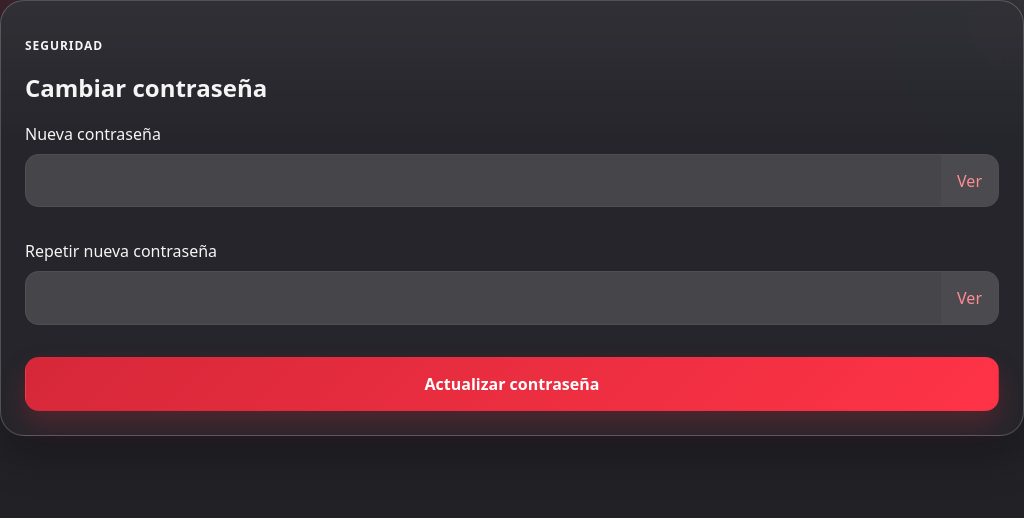
it: PasswordChangeForm › shows a validation error when passwords do not match
The width and height of the screenshot is (1024, 518).
Type "secret123" into the password field labelled "Nueva contraseña" at (484, 181), box x1=26 y1=155 x2=941 y2=206
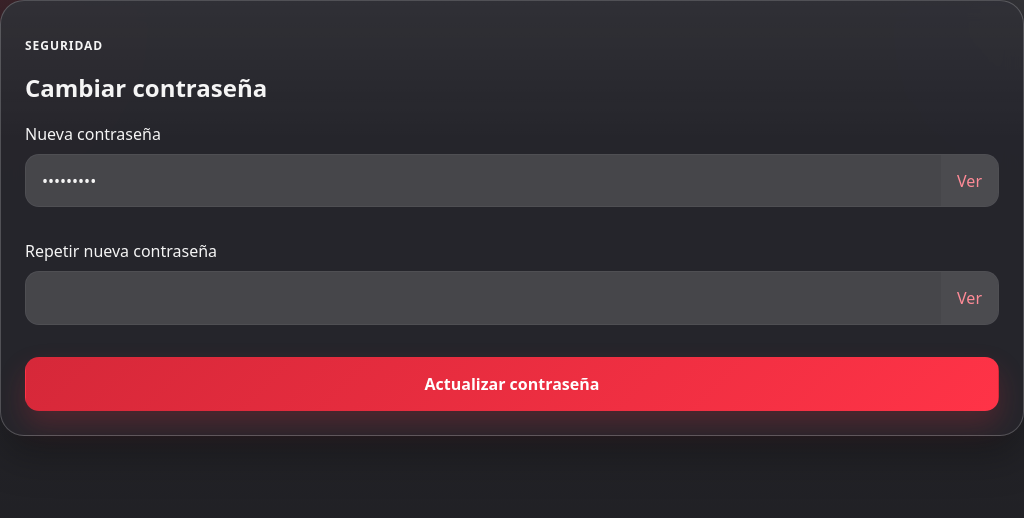
Type "different456" into the password field labelled "Repetir nueva contraseña" at (484, 298), box x1=26 y1=272 x2=941 y2=324
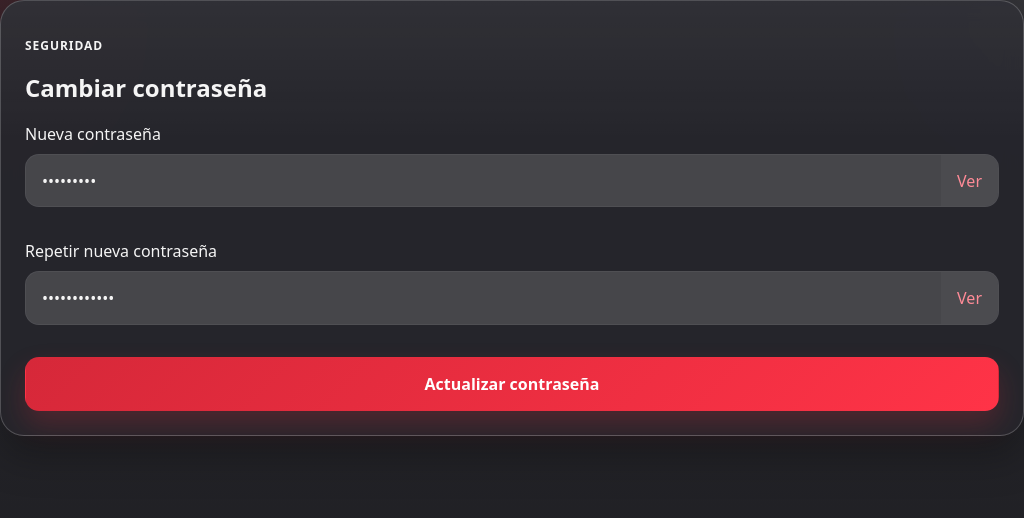
Submit the form
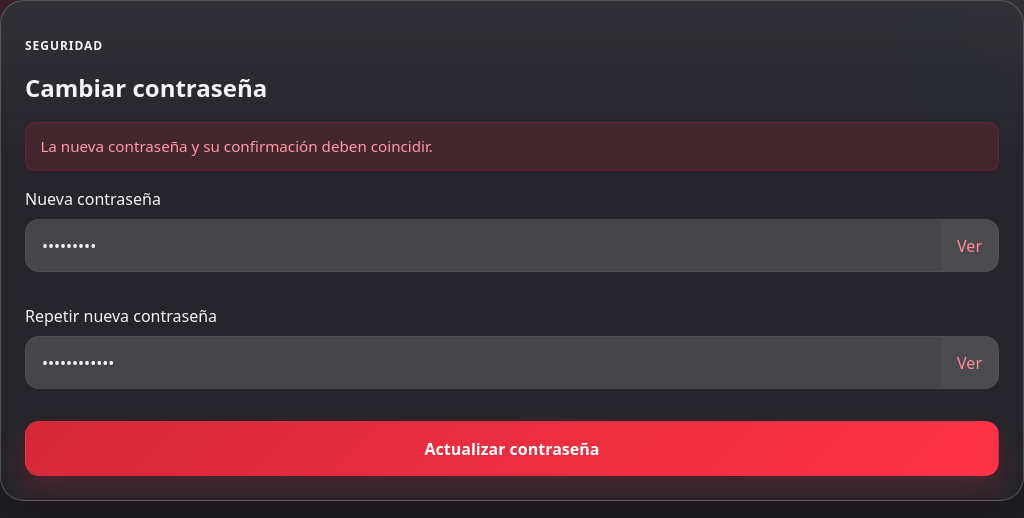
Result: the form shows "La nueva contraseña y su confirmación deben coincidir." at x1=40 y1=136 x2=433 y2=156
